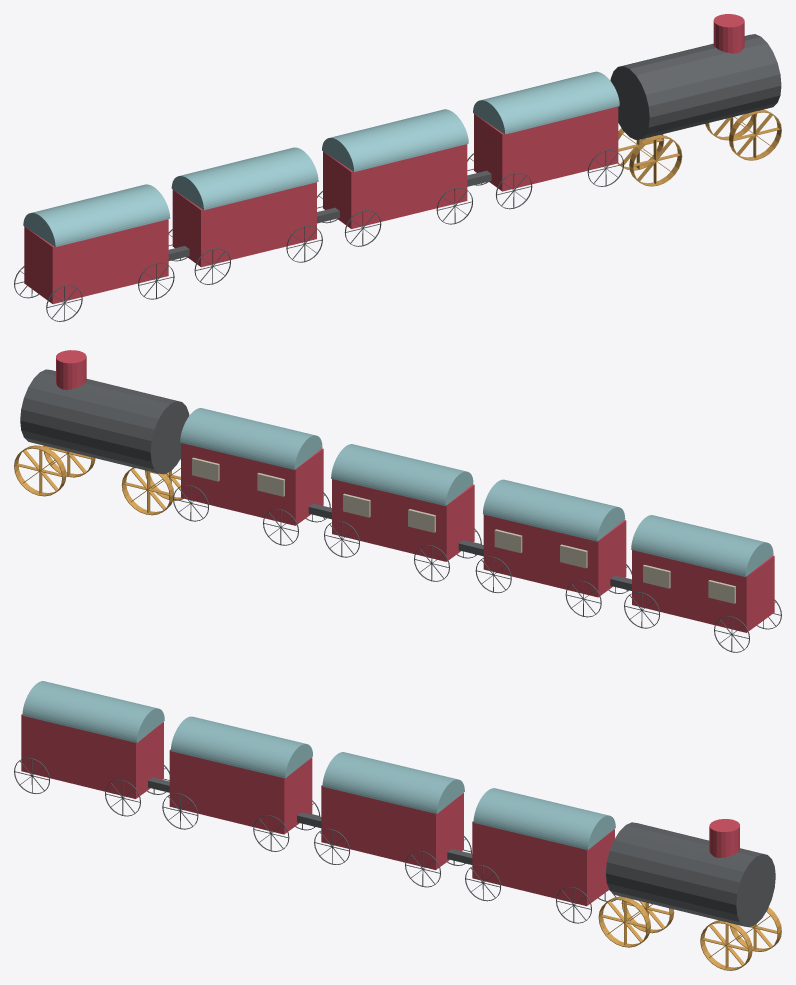
The model's file is Fabulous Rottis.glb.
3 renders of one model, top to bottom at view 1: azimuth 30°, elevation 25°; view 2: azimuth 150°, elevation 25°; view 3: azimuth 330°, elevation 25°, orthographic.
Parts seen in each view (by area): view 1: Mesh_Mesh_head_geo.001_lambert2SG.001; view 2: Mesh_Mesh_head_geo.001_lambert2SG.001; view 3: Mesh_Mesh_head_geo.001_lambert2SG.001.
Boxes of the visible parts, x1,y1,x2,y2 form: Mesh_Mesh_head_geo.001_lambert2SG.001: (14,14,781,321); Mesh_Mesh_head_geo.001_lambert2SG.001: (14,350,781,652); Mesh_Mesh_head_geo.001_lambert2SG.001: (14,681,781,970).
Size of the model in its own units: 557 by 95 by 52.
